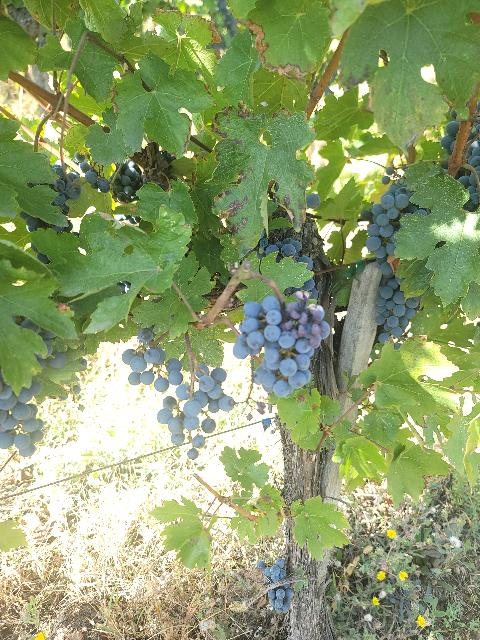grapes: (232, 289, 331, 398), (156, 365, 235, 459), (361, 184, 418, 259), (121, 328, 182, 392), (375, 262, 420, 342)
